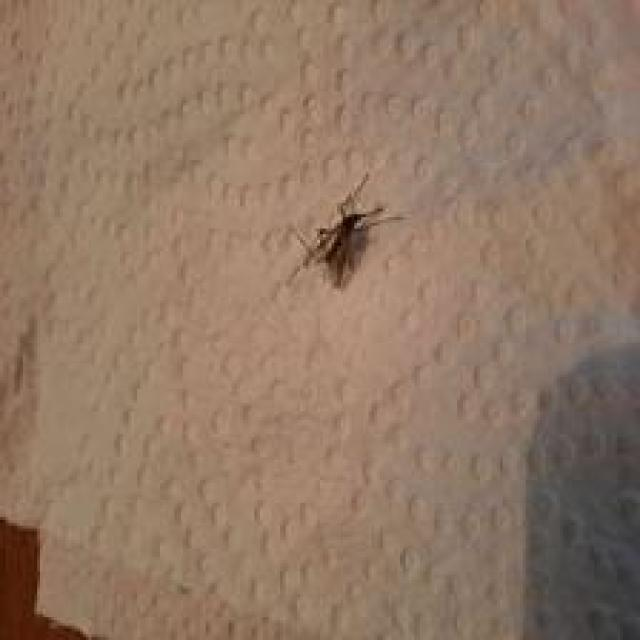Culex: (284, 172, 404, 292)
